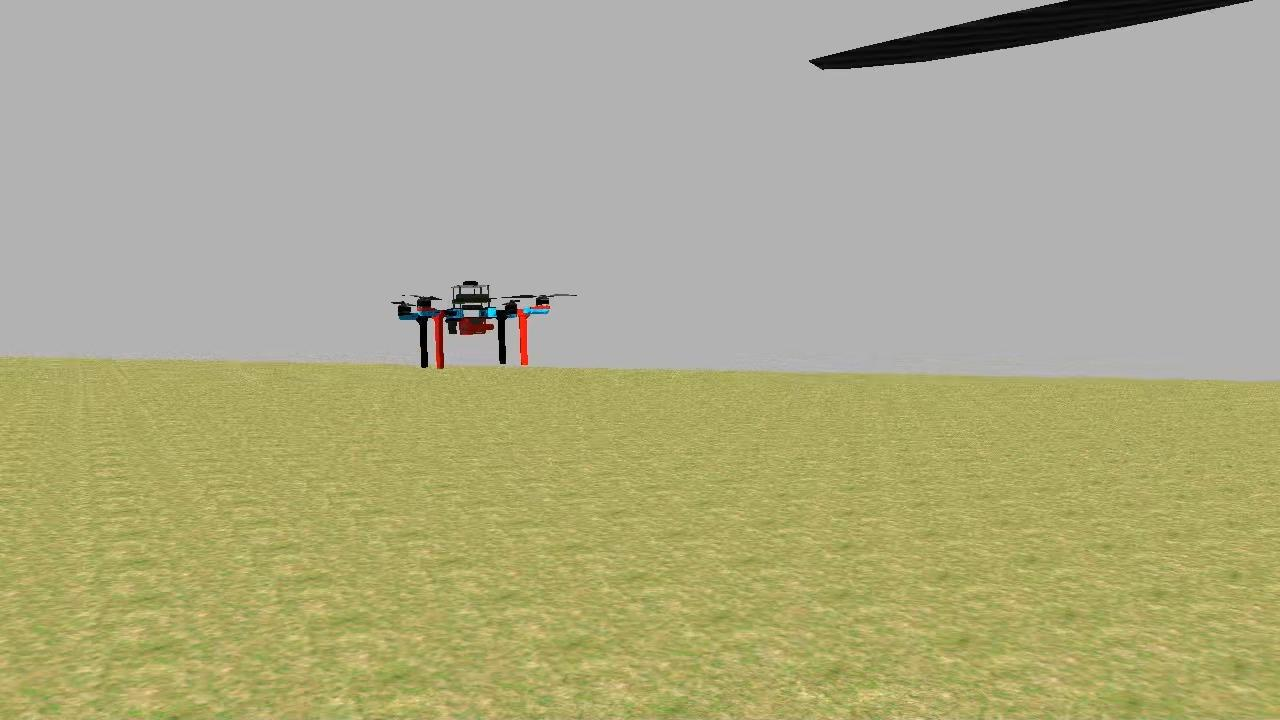UAV: (392, 272, 556, 372)
